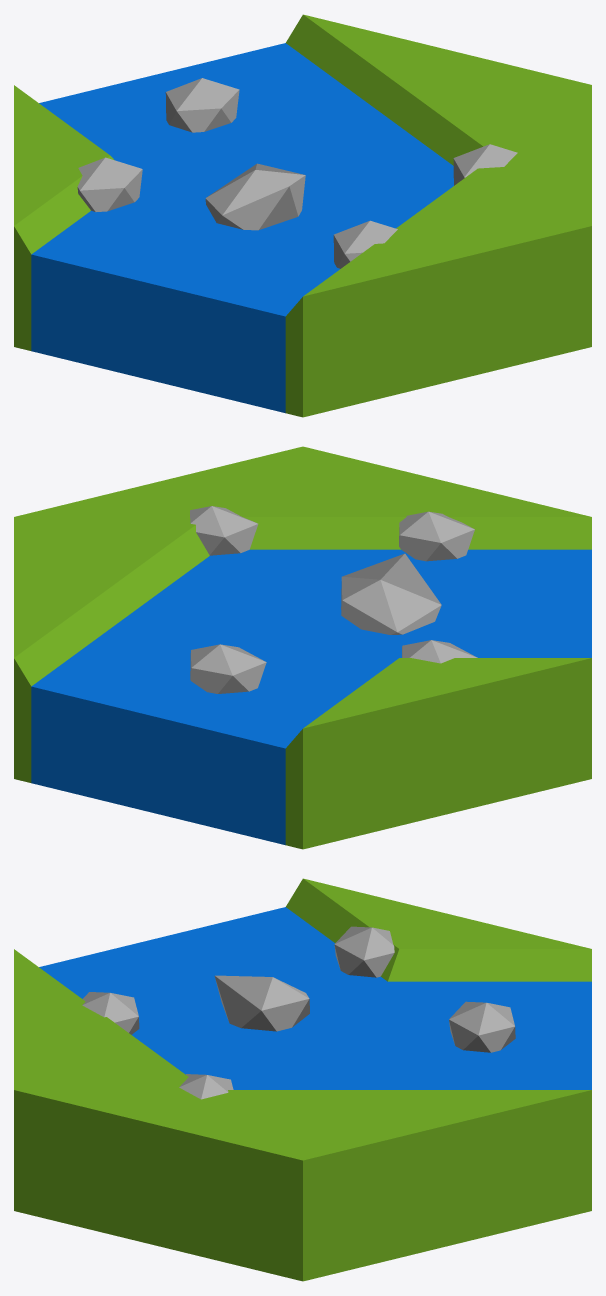
The model's file is Rio_Curva.fbx.
The picture shows the model from 3 angles, top to bottom: view 1: azimuth 30°, elevation 25°; view 2: azimuth 150°, elevation 25°; view 3: azimuth 270°, elevation 25°; orthographic projection.
Visible parts, largest first — view 1: Rio_Curva; view 2: Rio_Curva; view 3: Rio_Curva.
Part boxes in pixels (<box>): Rio_Curva: <box>14,14,591,417</box>; Rio_Curva: <box>14,446,591,849</box>; Rio_Curva: <box>14,878,591,1281</box>.
Size of the model in its own units: 200 by 45.22 by 173.
